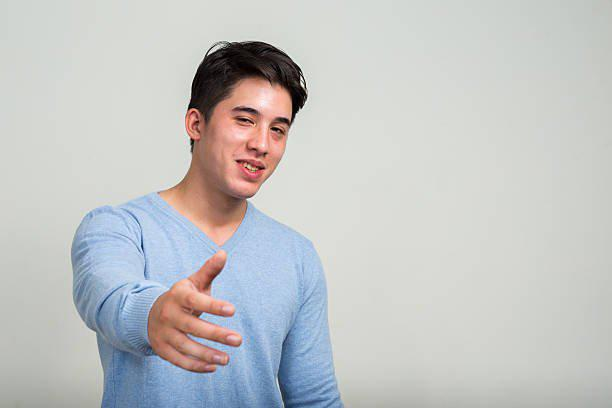Drunk: (220, 77, 292, 196)
